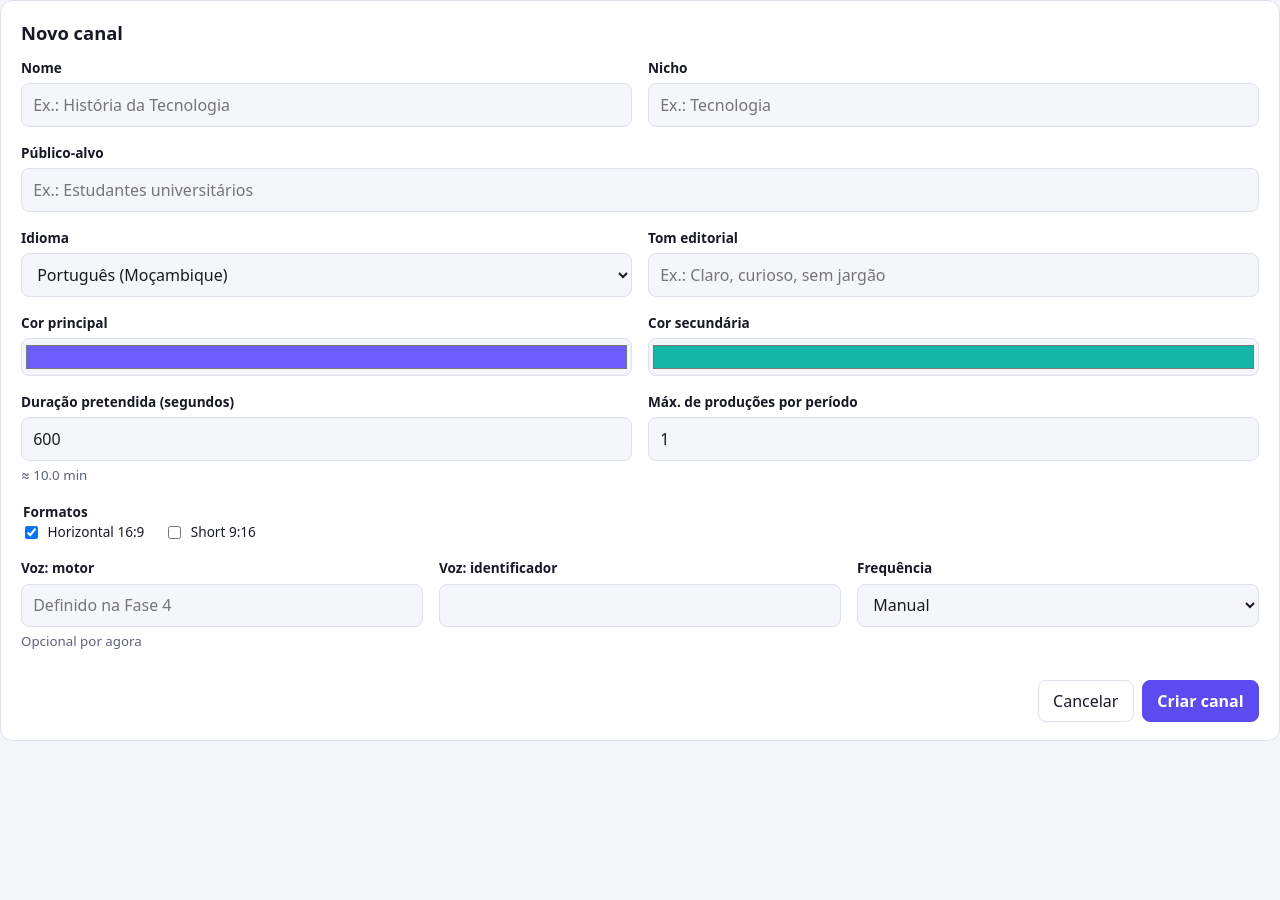
Test case: ChannelForm › mostra erro do servidor sem perder o formulário
In the field labelled "Nome": (326, 105) [21,83,632,127], type "X"
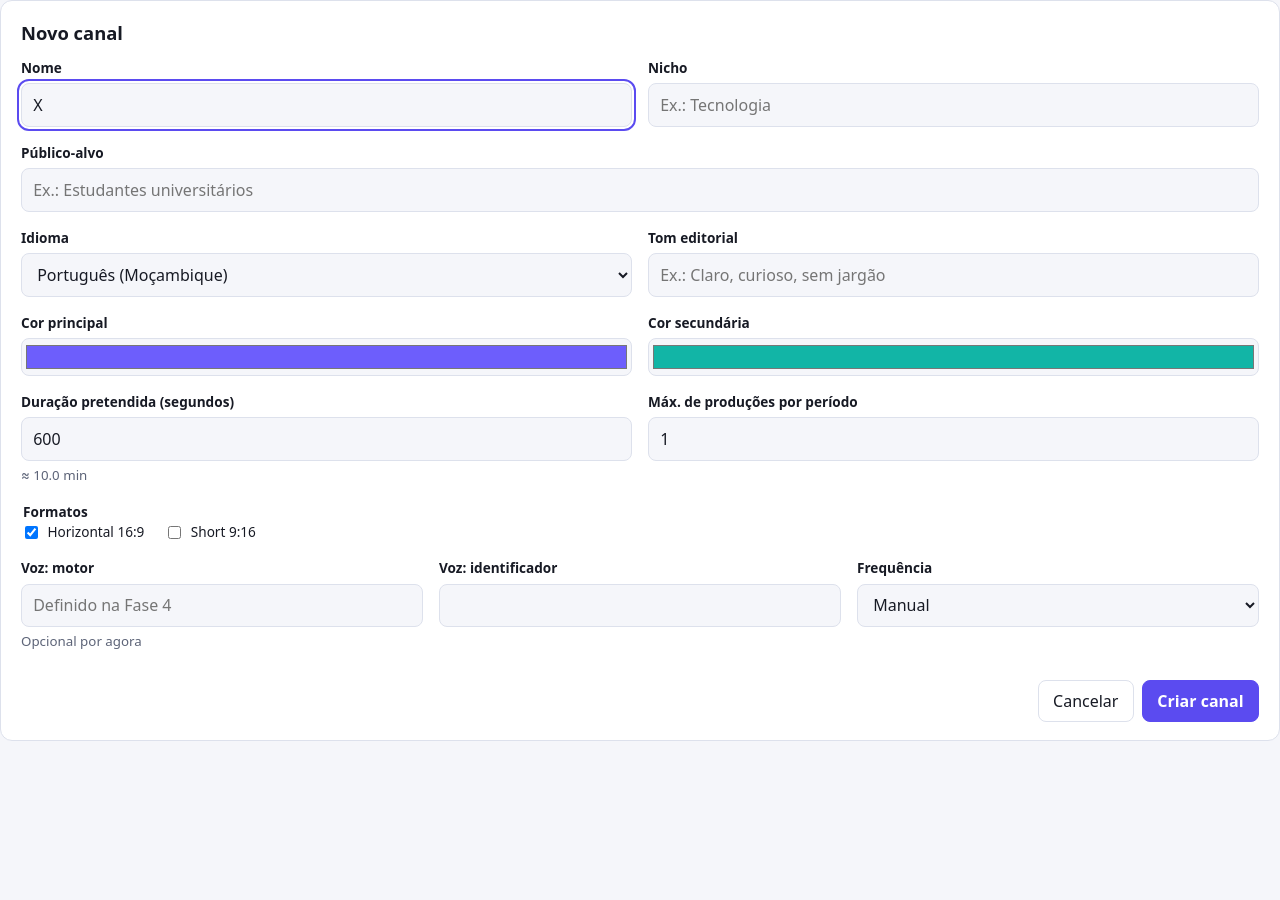
In the field labelled "Nicho": (954, 105) [648,83,1259,127], type "Y"
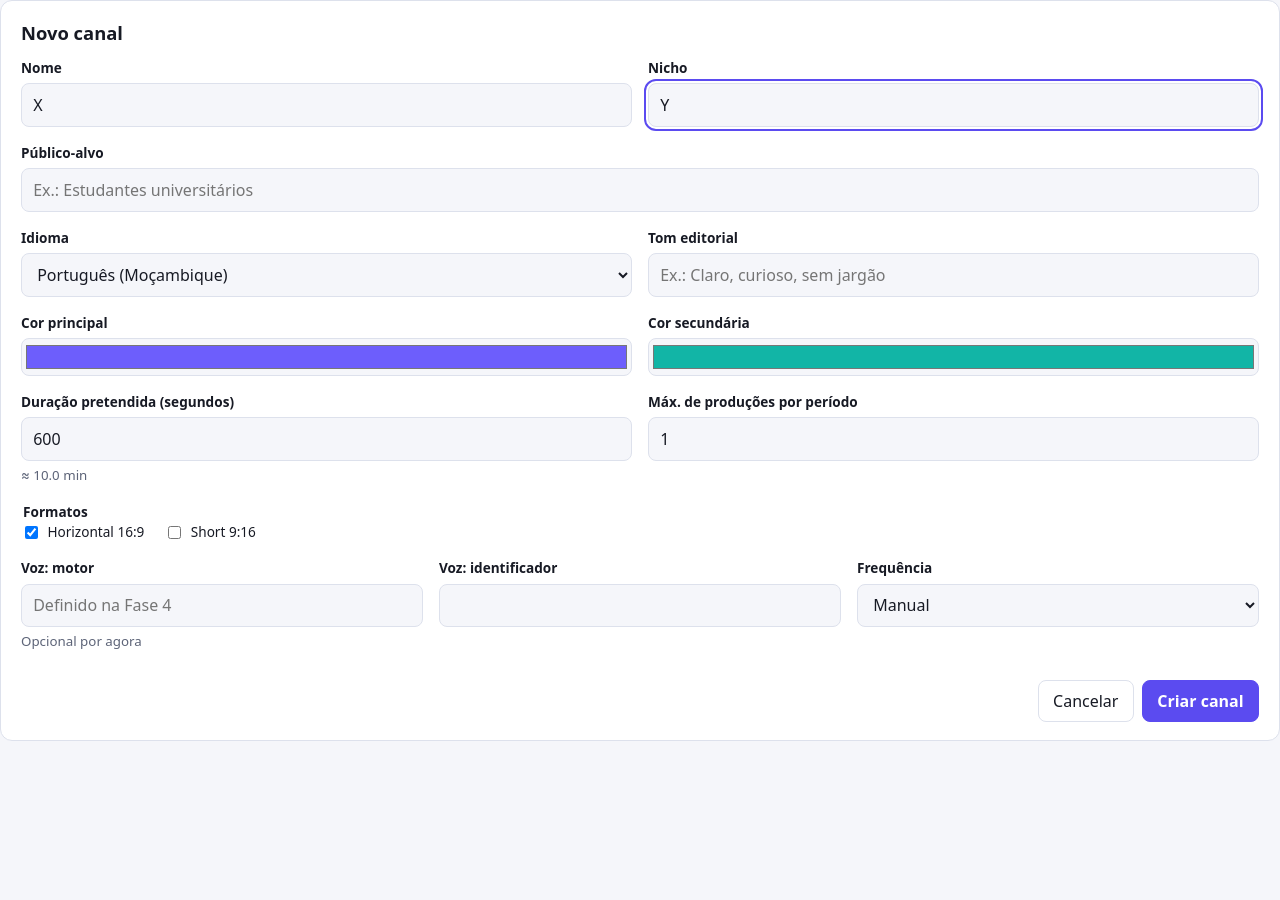
In the field labelled "Público-alvo": (640, 190) [21,168,1259,212], type "Z"
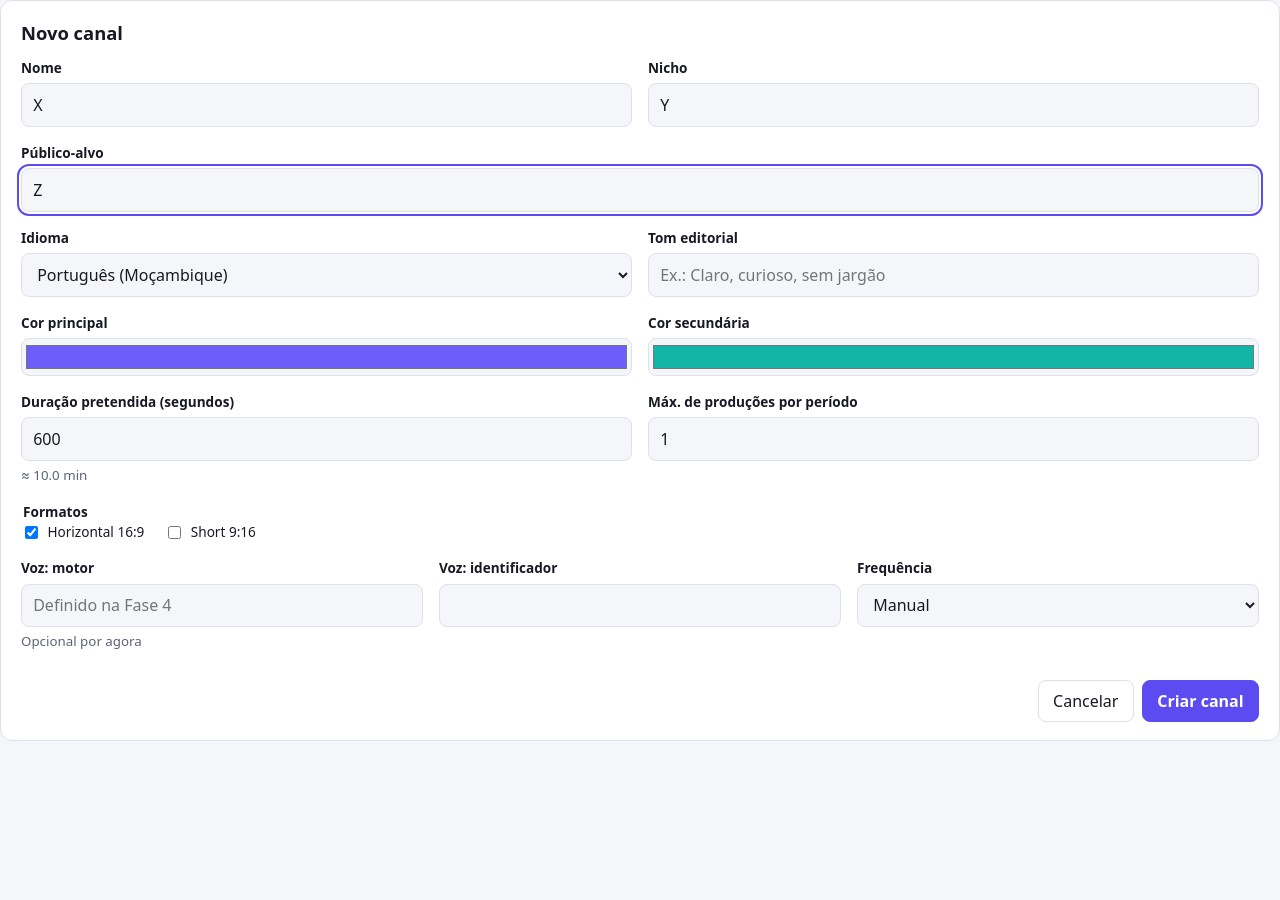
Click the button "Criar canal": (1200, 701) [1142,680,1259,722]
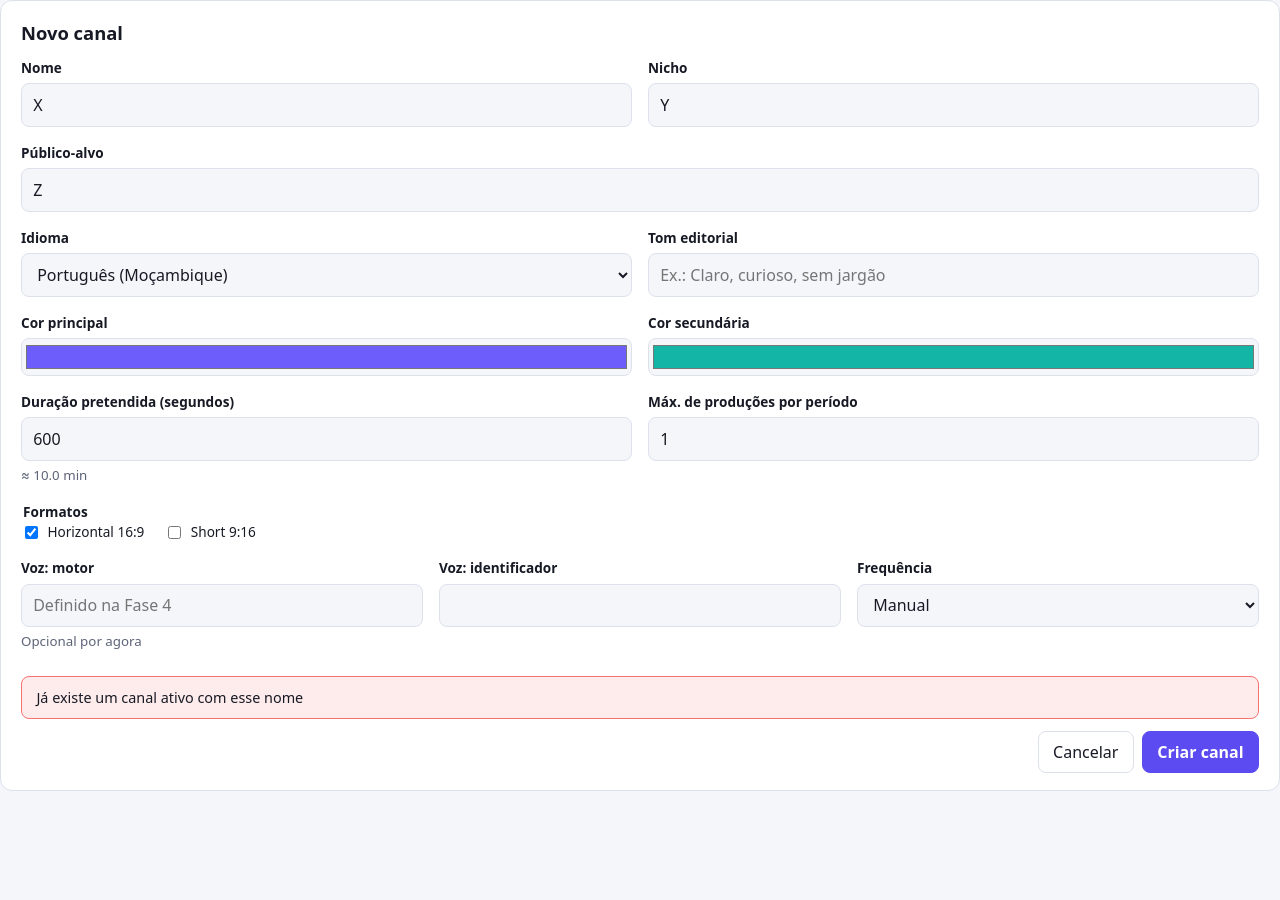
Now the text "Já existe um canal ativo com esse nome" is shown, box [21,676,1259,719]
